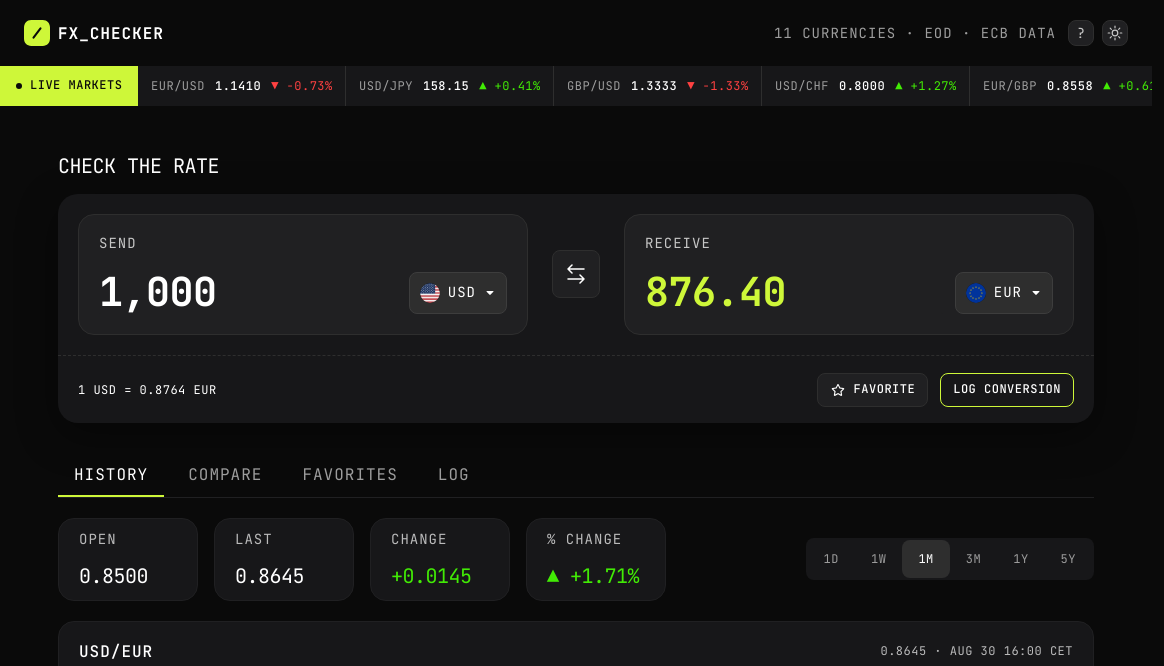
ComparePanel (US5) › pinning from Compare adds the pair to Favorites in the app
Expected: the text "1 USD = 0.8764 EUR" is shown, [78,383,217,397]
Click the tab "Compare".
click(225, 476)  # box [172,455,278,497]
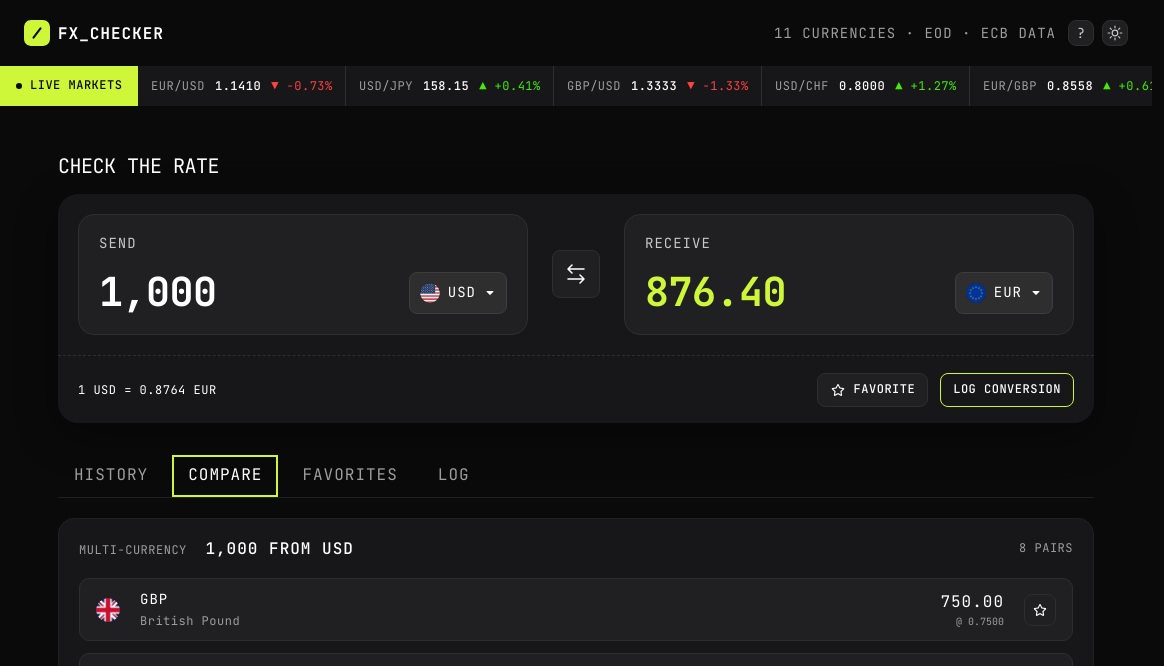
Click the button named "Pin USD to GBP".
click(1040, 610)  # box [1024,594,1056,626]
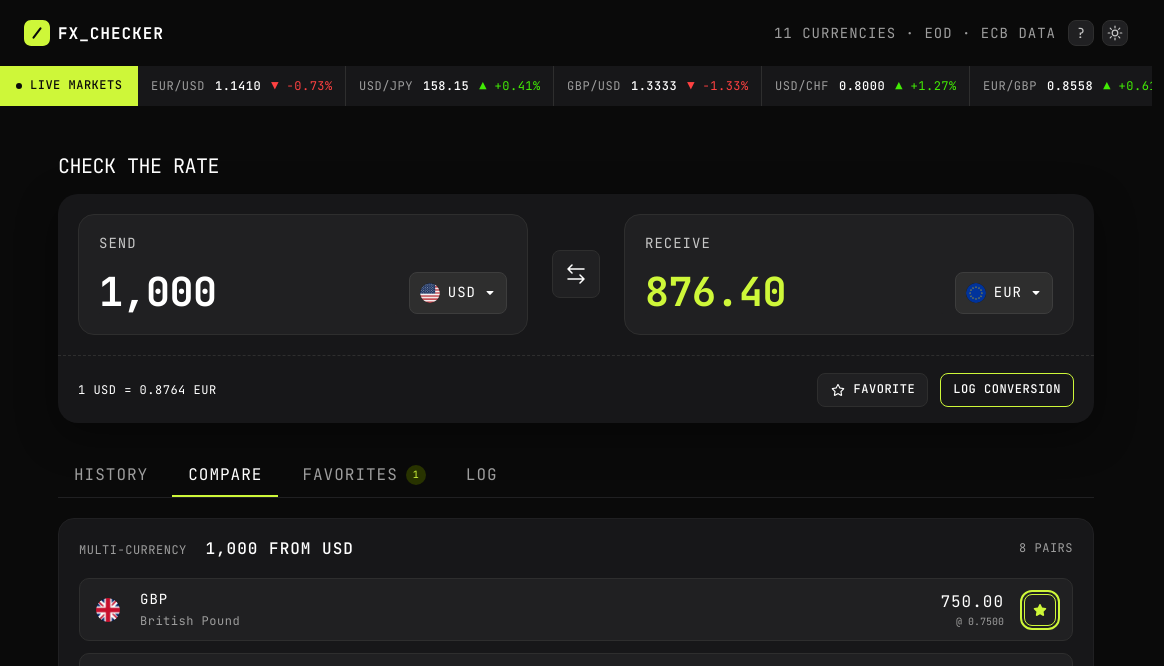
Click the tab "Favorites 1".
click(364, 476)  # box [286,455,442,497]
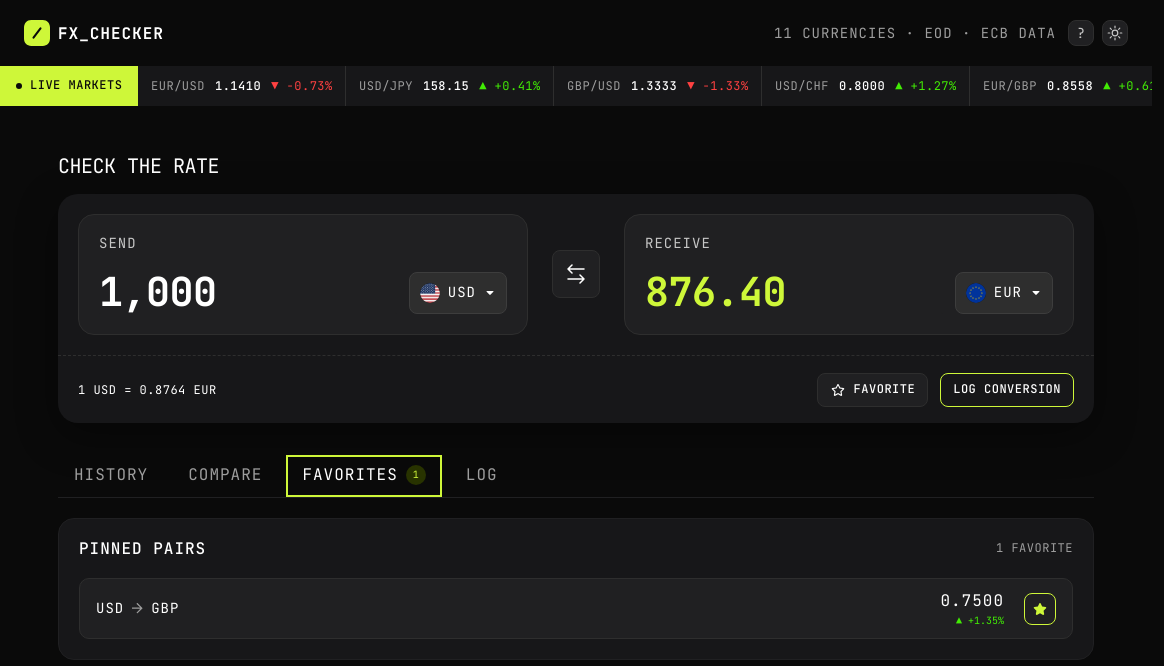
Now the button with aria-label "Load USD to GBP" is shown, box [80,579,1004,638]
